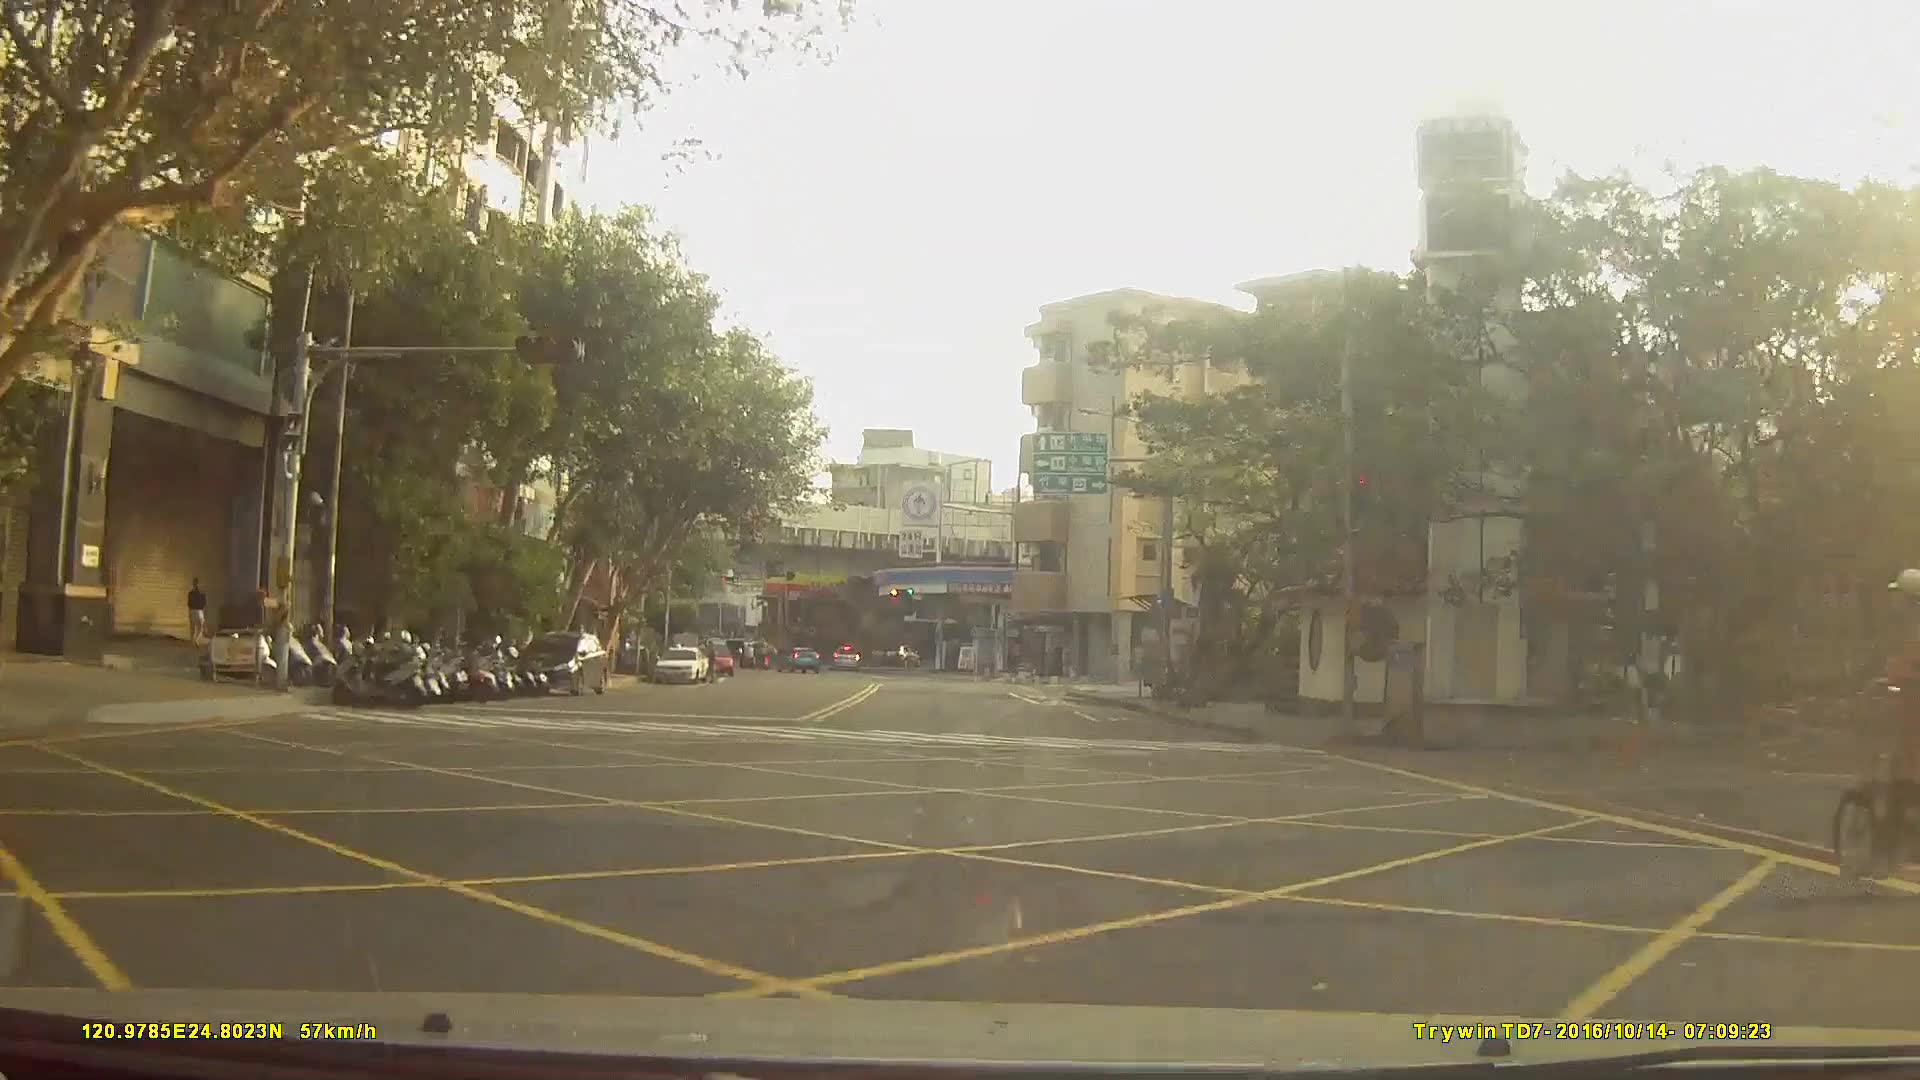pedestrian: (188, 575, 210, 649)
rider: (1836, 571, 1920, 882)
vehicle: (512, 628, 607, 696), (649, 643, 705, 683), (691, 640, 734, 677), (775, 642, 819, 671), (830, 642, 861, 670)
